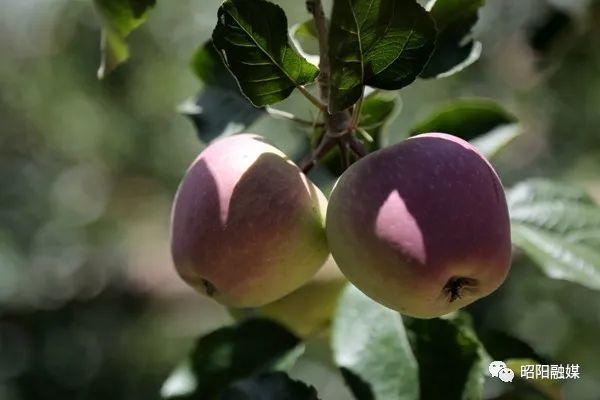apple: (325, 134, 513, 321), (168, 130, 327, 307)
